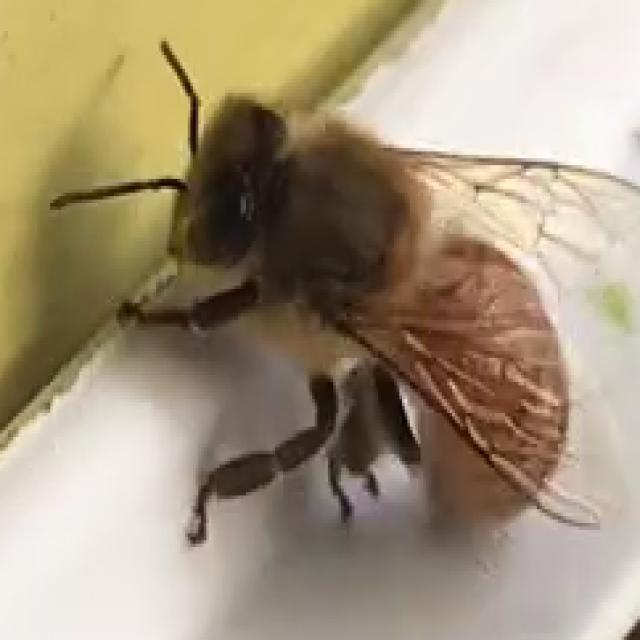honeybee: (69, 70, 640, 550)
